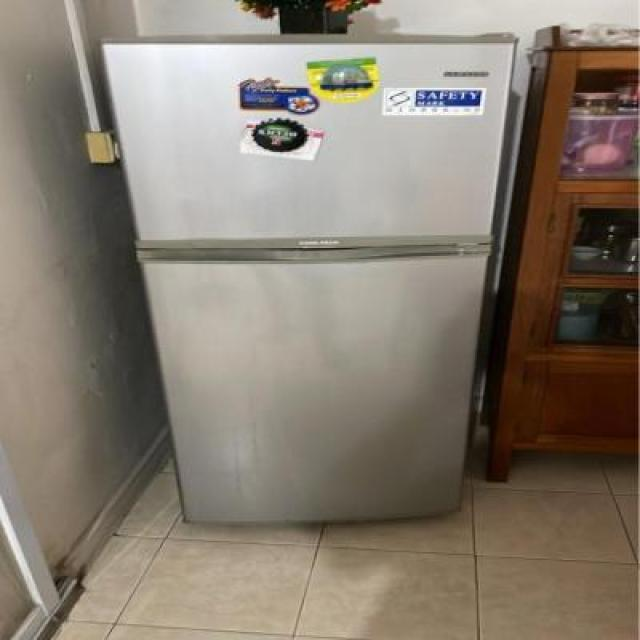refrigerator: (98, 34, 518, 532)
